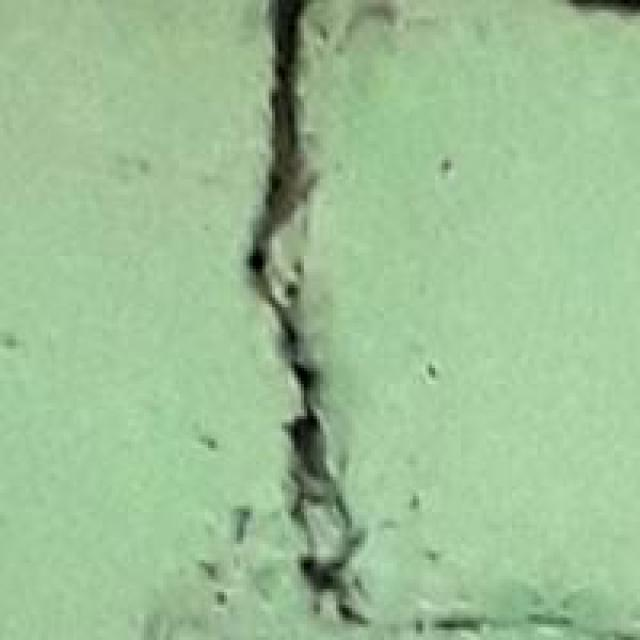crack: (206, 0, 398, 620)
